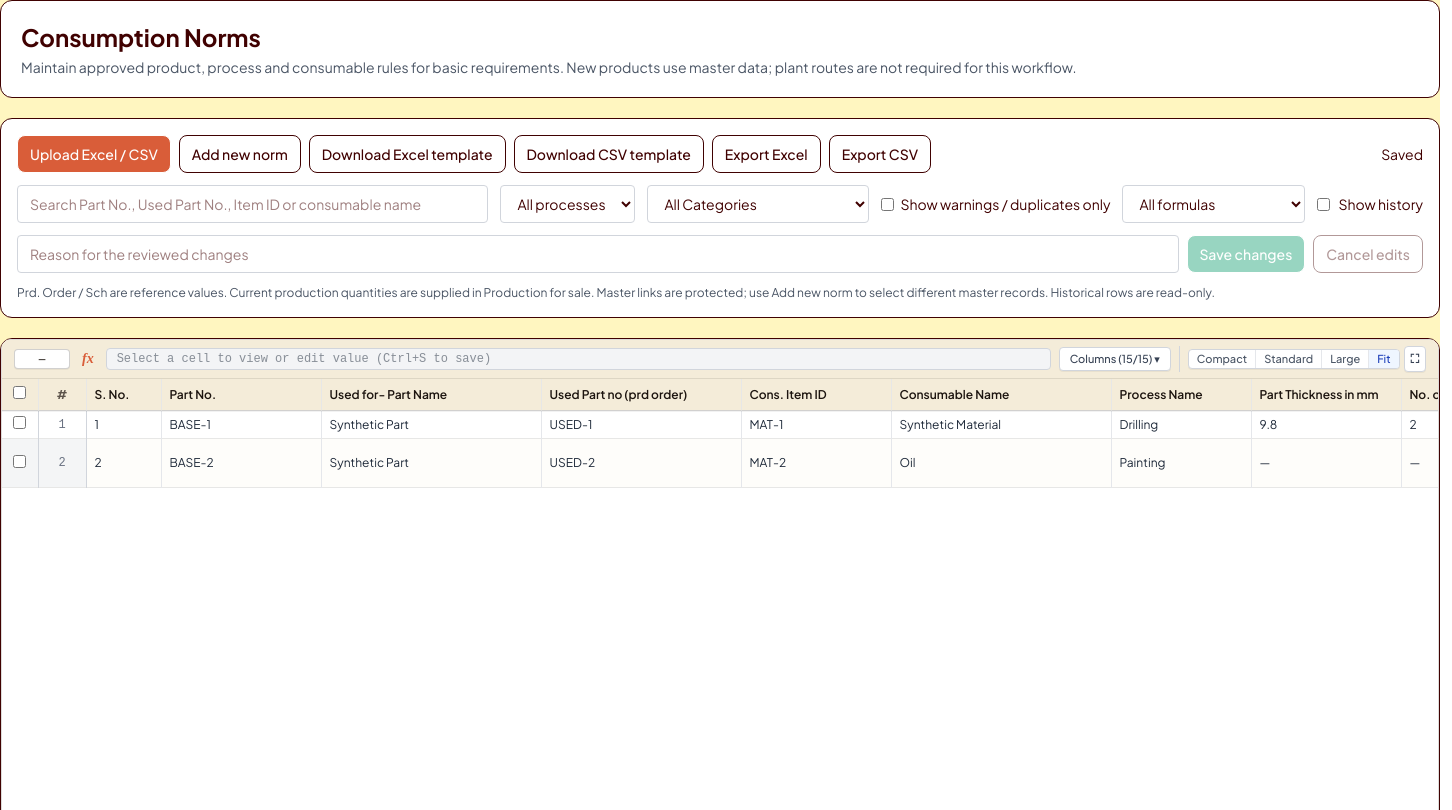
Test: norm table supports product and consumable searches and process filter
Expected: the cell "MAT-1" is shown, x1=741 y1=410 x2=891 y2=438
Type "used-2" into the field named "Search consumption norms" at (253, 204), box x1=17 y1=185 x2=488 y2=223
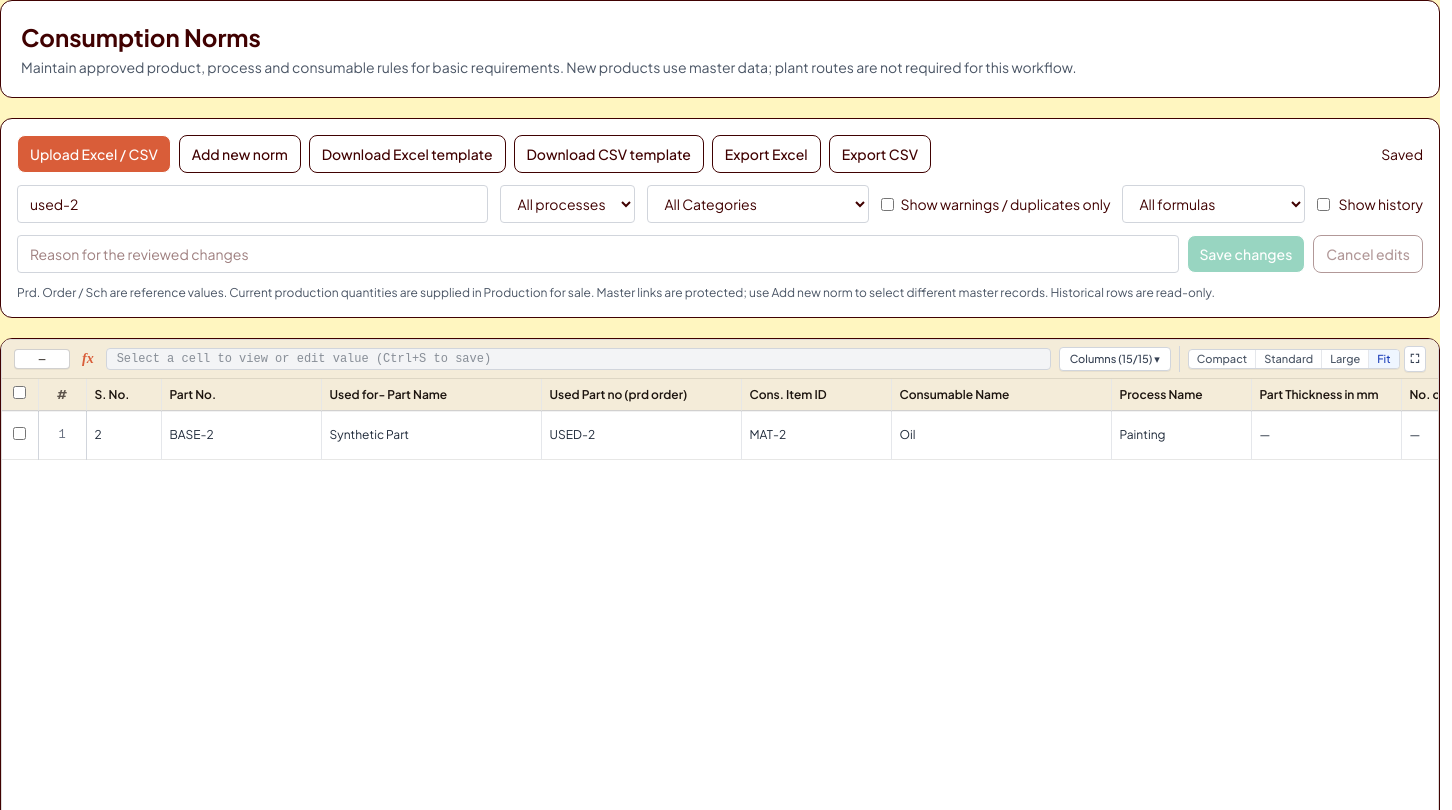
Expected: the cell "Oil" is shown, x1=891 y1=410 x2=1111 y2=460
Now the text "MAT-1" is gone
Clear the field named "Search consumption norms" at (253, 204), box x1=17 y1=185 x2=488 y2=223
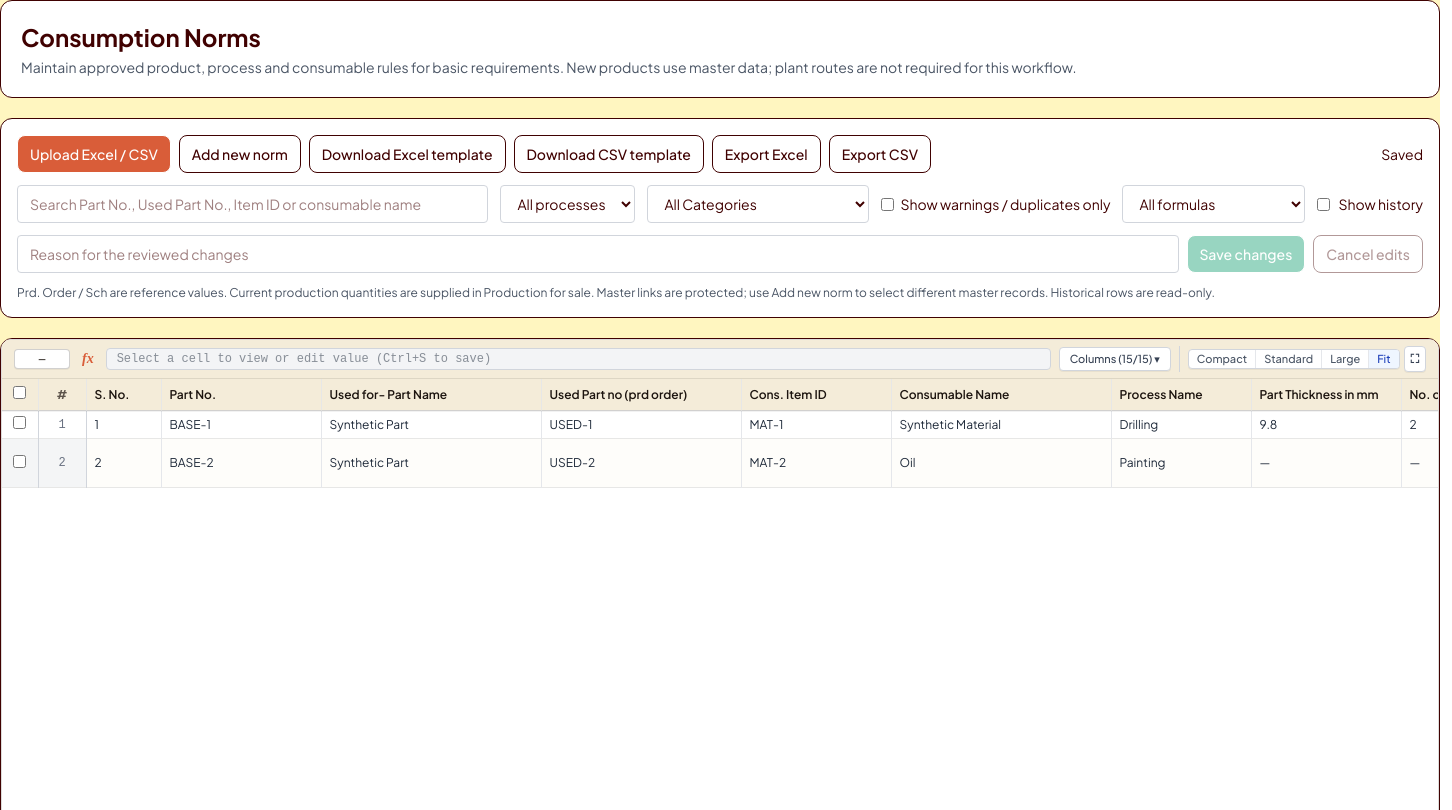
Select "Drilling" in the dropdown named "Filter process" at (568, 204), box x1=500 y1=185 x2=635 y2=223
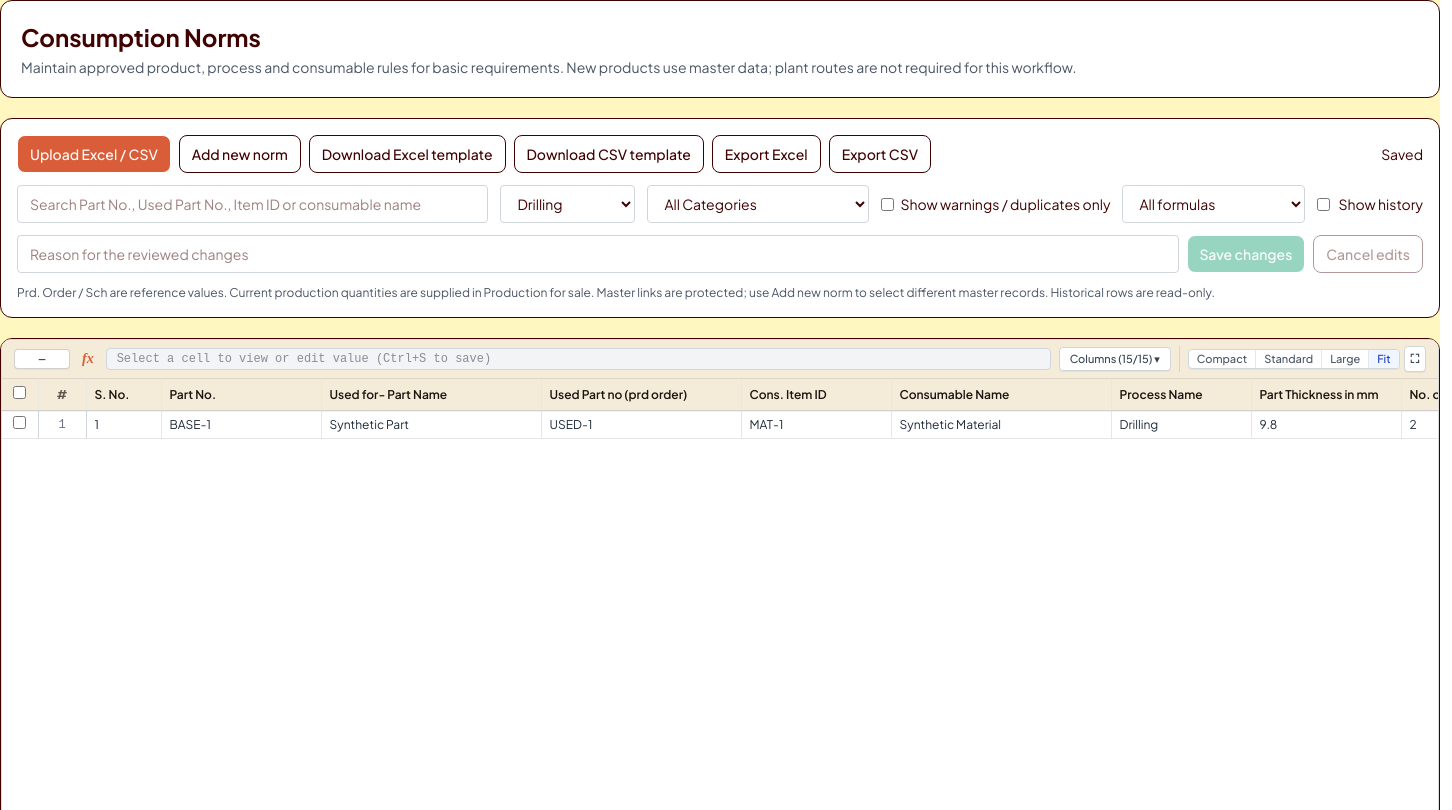
Now the cell "MAT-1" is shown, box x1=741 y1=410 x2=891 y2=438
Now the text "Oil" is gone
